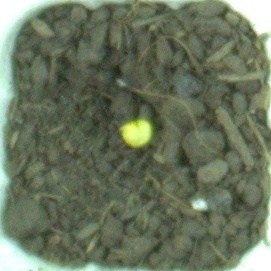chilli seed: (118, 118, 154, 151)
